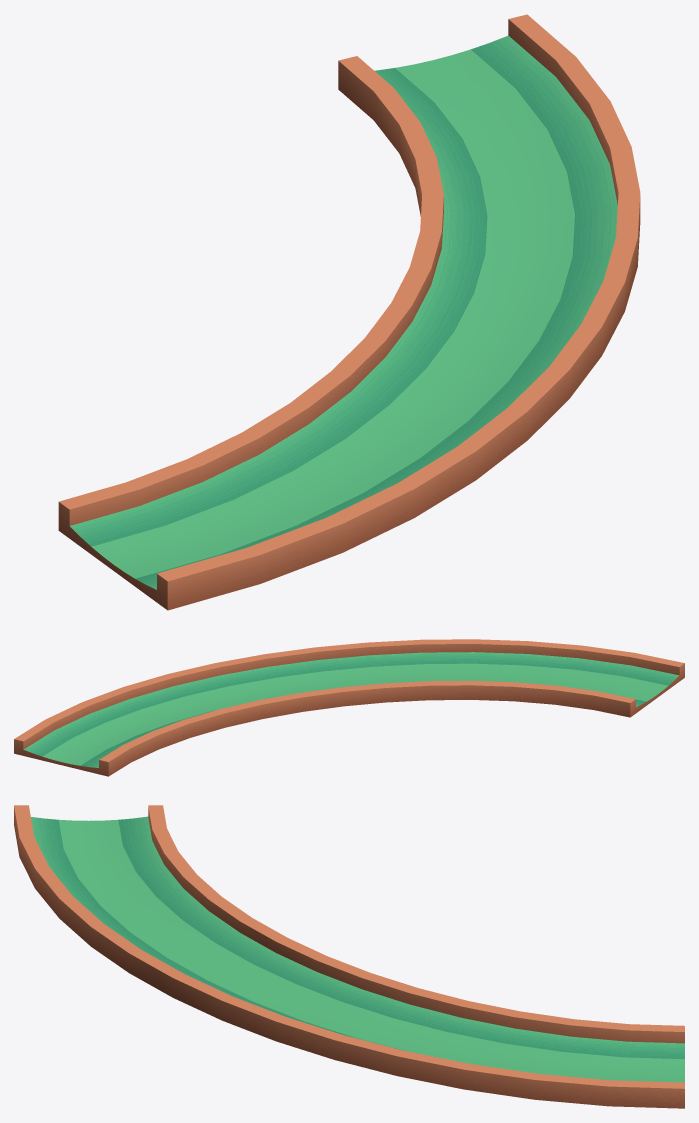
Rendered from spline_concave_corner_large.glb.
3 renders of one model, top to bottom at view 1: azimuth 30°, elevation 25°; view 2: azimuth 150°, elevation 25°; view 3: azimuth 270°, elevation 25°, orthographic. The views are drawn at different scales.
Parts seen in each view (by area): view 1: spline-concave-corner-large; view 2: spline-concave-corner-large; view 3: spline-concave-corner-large.
Boxes of the visible parts, x1,y1,x2,y2 form: spline-concave-corner-large: (58, 14, 640, 610); spline-concave-corner-large: (14, 639, 684, 776); spline-concave-corner-large: (14, 805, 684, 1108).
Bounding box in the file's own units: 4.5 × 0.1467 × 4.5.
Materials: 1 (1 with a texture image).
